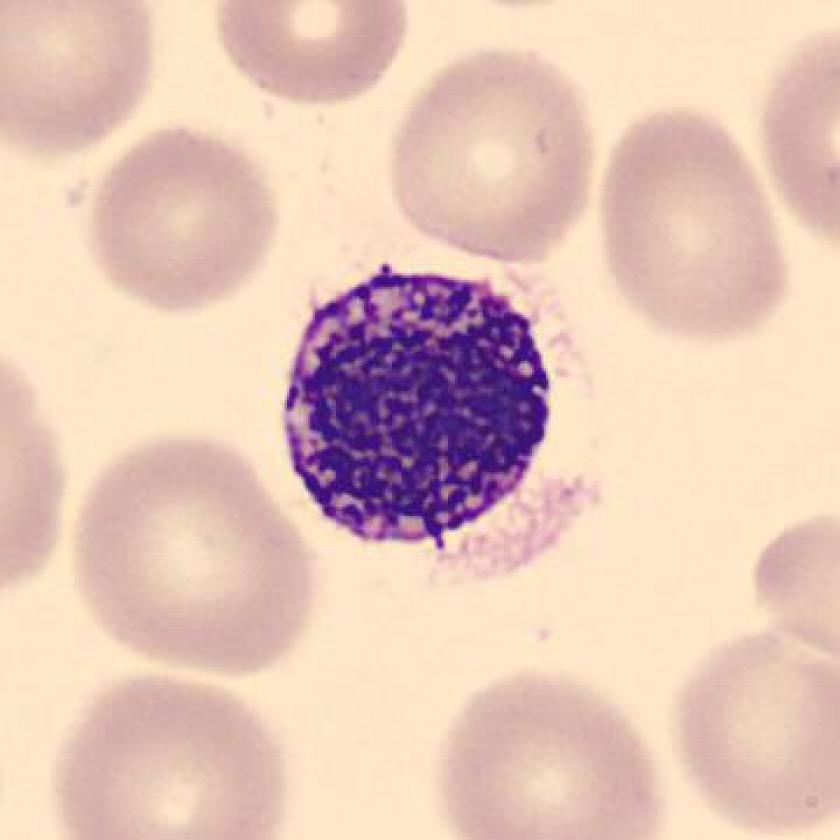basophil: (276, 269, 573, 552)
